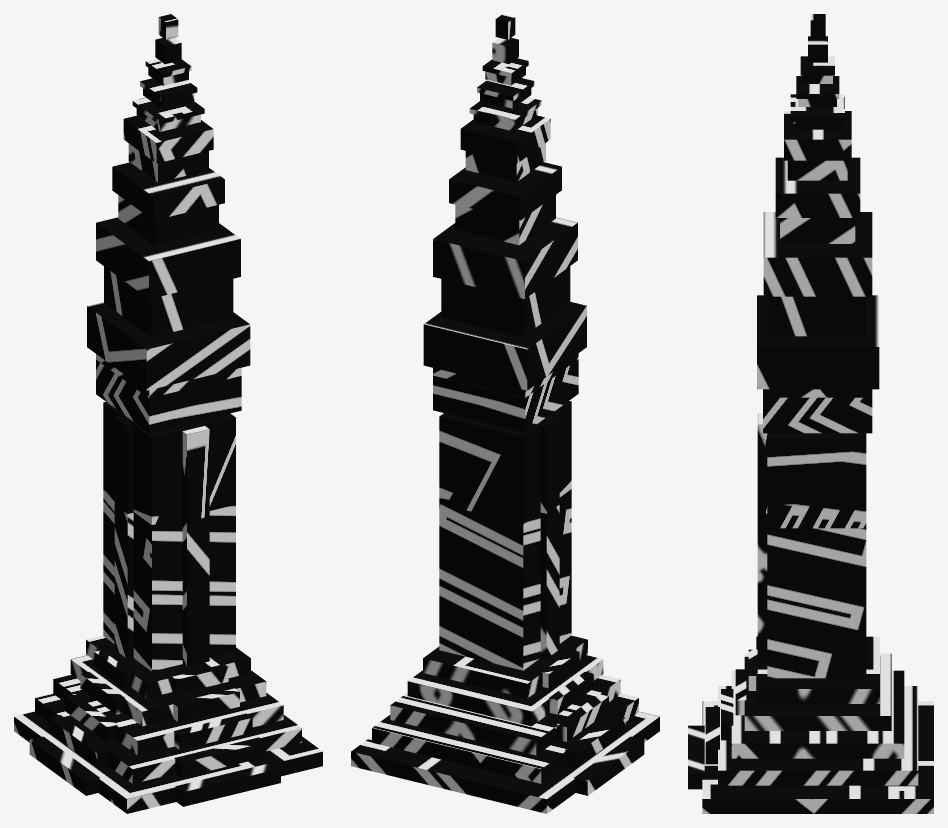
The model's file is MainTempleCornerTower.FBX.
The picture shows the model from 3 angles, left to right: view 1: azimuth 30°, elevation 25°; view 2: azimuth 150°, elevation 25°; view 3: azimuth 270°, elevation 25°; orthographic projection. The views are drawn at different scales.
Visible parts, largest first — view 1: CornerTowerMid, CornerTowerTop, CornerTowerTop1, CornerTowerBase, CornerTowerBase1, CornerTowerBase2, CornerTowerTop2, CornerTowerBase3, CornerTowerBase4, CornerTowerTop3, CornerTowerTop4, CornerTowerTop5 (+2 smaller); view 2: CornerTowerMid, CornerTowerTop, CornerTowerTop1, CornerTowerBase, CornerTowerBase1, CornerTowerBase2, CornerTowerTop2, CornerTowerBase3, CornerTowerBase4, CornerTowerTop3, CornerTowerTop4, CornerTowerTop5 (+2 smaller); view 3: CornerTowerMid, CornerTowerTop, CornerTowerTop1, CornerTowerBase, CornerTowerBase1, CornerTowerBase2, CornerTowerTop2, CornerTowerBase3, CornerTowerBase4, CornerTowerTop3, CornerTowerTop4, CornerTowerTop5 (+2 smaller).
Part boxes in pixels (<box>): CornerTowerMid: <box>103,402,235,671</box>; CornerTowerTop: <box>87,301,250,432</box>; CornerTowerTop1: <box>96,217,240,337</box>; CornerTowerBase: <box>14,711,322,813</box>; CornerTowerBase1: <box>35,693,301,783</box>; CornerTowerBase2: <box>53,675,283,755</box>; CornerTowerTop2: <box>112,162,224,245</box>; CornerTowerBase3: <box>70,655,266,726</box>; CornerTowerBase4: <box>86,635,250,698</box>; CornerTowerTop3: <box>123,115,213,182</box>; CornerTowerTop4: <box>132,97,204,131</box>; CornerTowerTop5: <box>140,78,197,108</box>; CornerTowerMid: <box>439,401,571,670</box>; CornerTowerTop: <box>423,302,586,432</box>; CornerTowerTop1: <box>433,217,577,336</box>; CornerTowerBase: <box>351,711,659,813</box>; CornerTowerBase1: <box>372,693,638,783</box>; CornerTowerBase2: <box>390,675,620,755</box>; CornerTowerTop2: <box>449,162,561,245</box>; CornerTowerBase3: <box>407,655,603,726</box>; CornerTowerBase4: <box>423,635,587,698</box>; CornerTowerTop3: <box>460,115,550,182</box>; CornerTowerTop4: <box>469,97,541,131</box>; CornerTowerTop5: <box>477,78,534,108</box>; CornerTowerMid: <box>757,413,866,678</box>; CornerTowerTop: <box>757,295,879,433</box>; CornerTowerTop1: <box>763,212,872,336</box>; CornerTowerBase: <box>688,701,933,813</box>; CornerTowerBase1: <box>705,686,918,785</box>; CornerTowerBase2: <box>721,670,904,758</box>; CornerTowerTop2: <box>775,157,860,243</box>; CornerTowerBase3: <box>735,653,891,730</box>; CornerTowerBase4: <box>748,636,879,703</box>; CornerTowerTop3: <box>784,111,851,180</box>; CornerTowerTop4: <box>790,94,844,129</box>; CornerTowerTop5: <box>796,76,839,106</box>.
Bounding box in the file's own units: 1.89 × 6.34 × 1.89.
